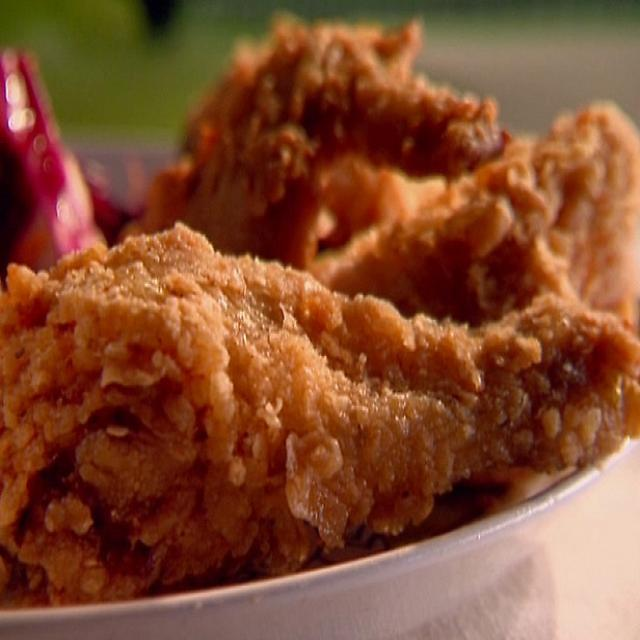Chicken -Fried Chicken-: (0, 216, 640, 604)
